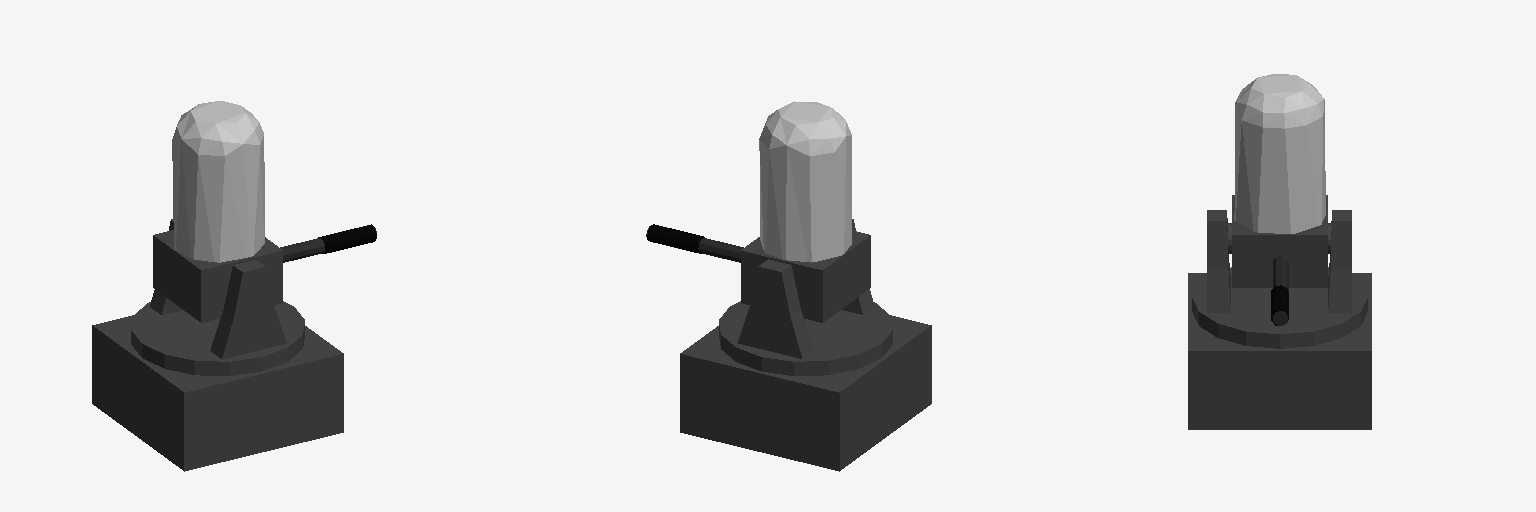
File: C_RAM_d.obj
3 renders of one model, left to right at view 1: azimuth 30°, elevation 25°; view 2: azimuth 150°, elevation 25°; view 3: azimuth 270°, elevation 25°, orthographic.
Parts seen in each view (by area): view 1: Base_Metal, Gun.Fairing_Fairing, Yaw.Base_Metal, Gun.Center_Metal, Yaw.Right_Metal, Gun.Front_Steel2, Gun.Cylinder.001_Steel; view 2: Base_Metal, Gun.Fairing_Fairing, Yaw.Base_Metal, Gun.Center_Metal, Yaw.Left_Metal, Gun.Front_Steel2, Gun.Cylinder.001_Steel; view 3: Base_Metal, Gun.Fairing_Fairing, Yaw.Base_Metal, Gun.Center_Metal, Yaw.Right_Metal, Yaw.Left_Metal, Gun.Cylinder.001_Steel.
Boxes of the visible parts, box(x1,y1,x2,y2) form: Base_Metal: box(92, 315, 343, 471); Gun.Fairing_Fairing: box(172, 101, 264, 262); Yaw.Base_Metal: box(131, 301, 304, 375); Gun.Center_Metal: box(153, 230, 282, 322); Yaw.Right_Metal: box(210, 260, 286, 358); Gun.Front_Steel2: box(318, 224, 376, 253); Gun.Cylinder.001_Steel: box(280, 228, 376, 262); Base_Metal: box(680, 315, 931, 471); Gun.Fairing_Fairing: box(759, 101, 851, 262); Yaw.Base_Metal: box(719, 301, 892, 375); Gun.Center_Metal: box(741, 230, 870, 322); Yaw.Left_Metal: box(738, 259, 813, 358); Gun.Front_Steel2: box(647, 224, 704, 253); Gun.Cylinder.001_Steel: box(646, 226, 743, 262); Base_Metal: box(1188, 273, 1371, 429); Gun.Fairing_Fairing: box(1234, 74, 1325, 233); Yaw.Base_Metal: box(1192, 267, 1367, 348); Gun.Center_Metal: box(1232, 195, 1327, 287); Yaw.Right_Metal: box(1207, 210, 1230, 312); Yaw.Left_Metal: box(1328, 210, 1351, 312); Gun.Cylinder.001_Steel: box(1273, 256, 1288, 325).
Size of the model in its own units: 3.75 by 4.66 by 2.54.